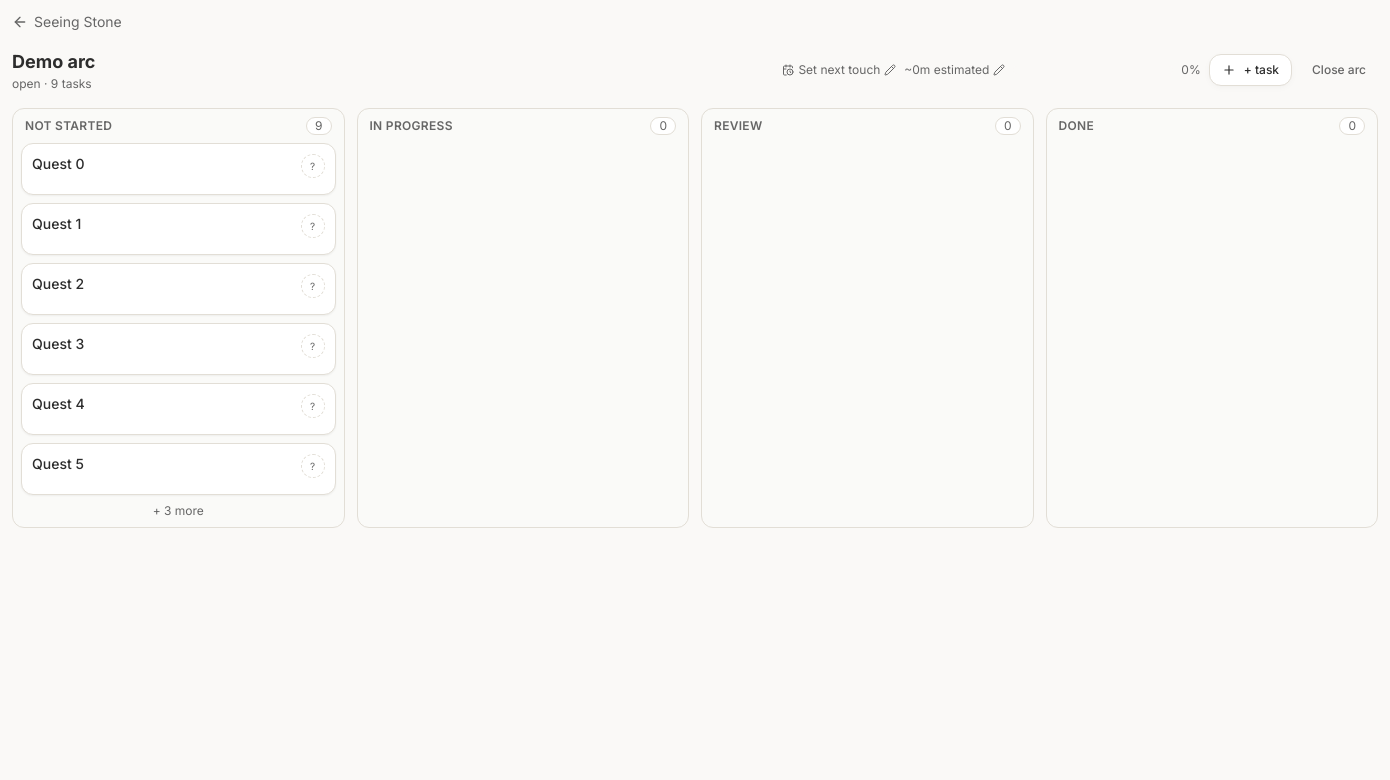
Test: ArcBoard — column overflow expands (Mike, 2026-10-12) › "+ N more" reveals every quest in the column, and folds back
Expected: the text "Quest 8" is not shown
Click the button with test id "arc-column-not_started-overflow-toggle": point(178, 511) 21,503 -> 336,519
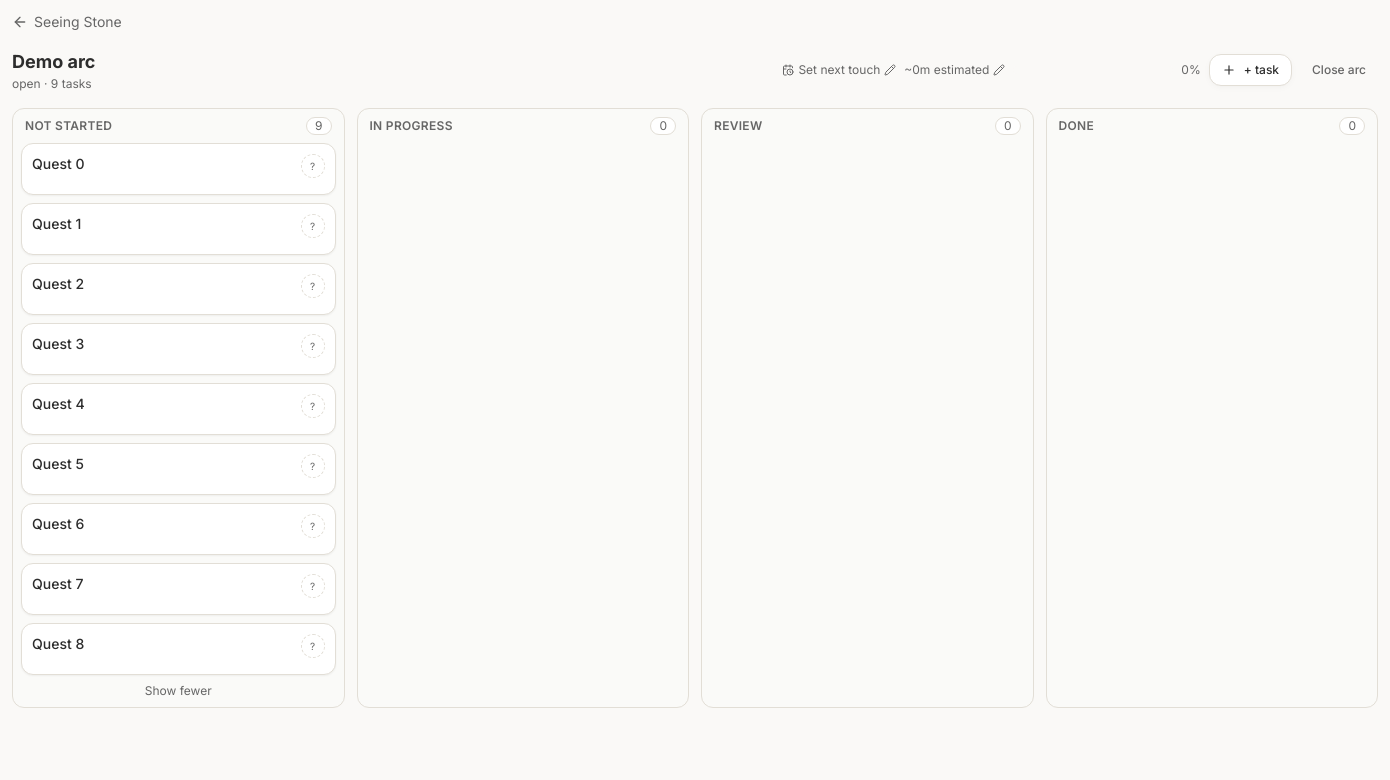
Result: the button "Quest 8" is shown at 32,634 -> 84,654
Result: the button with test id "arc-column-not_started-overflow-toggle" reads "Show fewer"
Click the button with test id "arc-column-not_started-overflow-toggle": point(178, 691) 21,683 -> 336,699
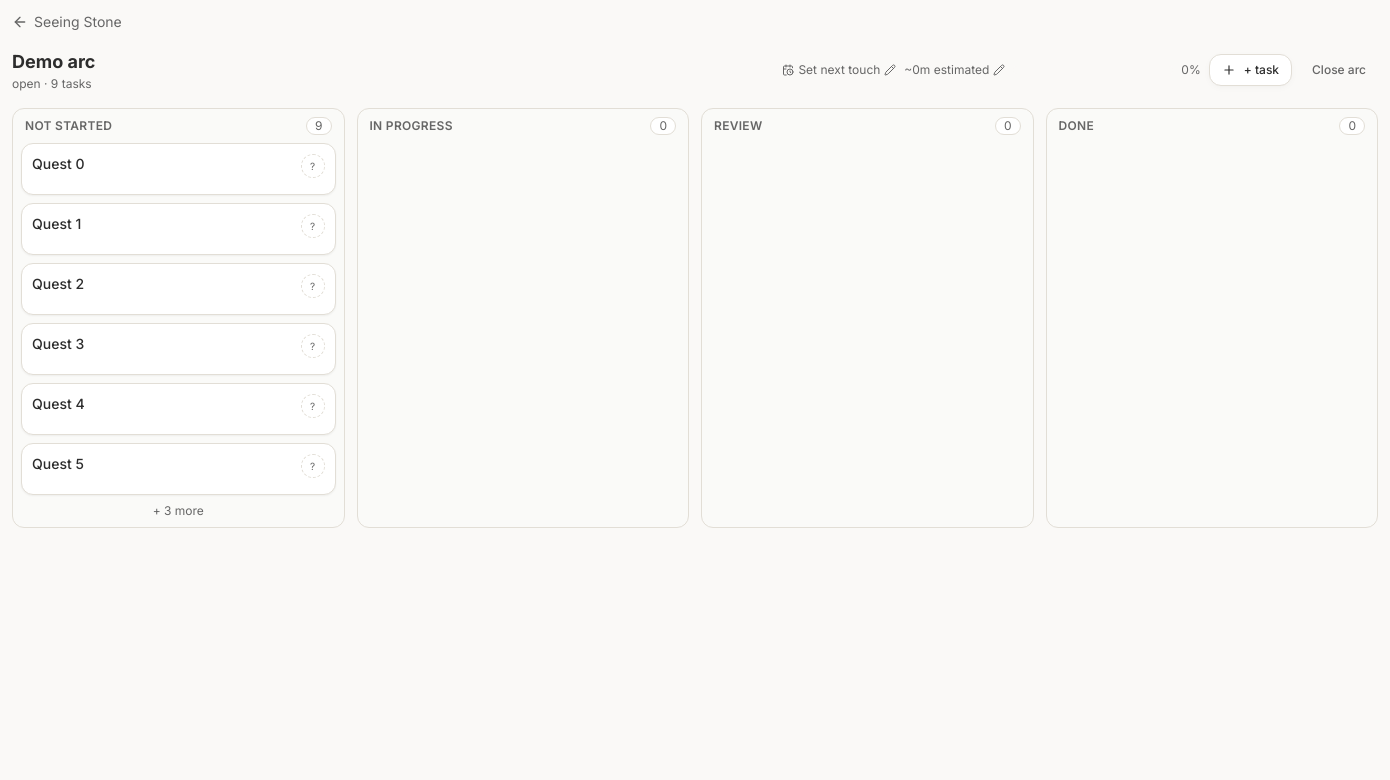
Result: the button "Quest 8" is gone
